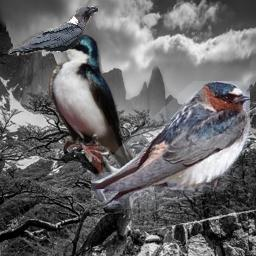Crow: (8, 6, 99, 55)
Swallow: (91, 81, 250, 209), (47, 32, 142, 186)
